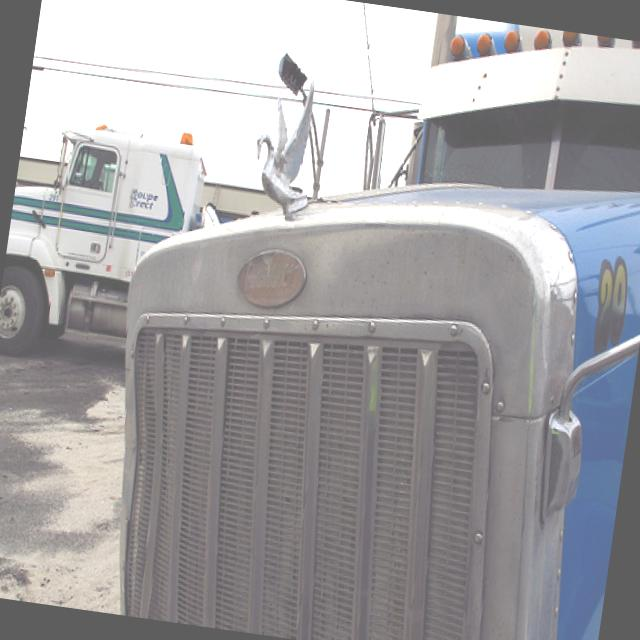Vehicle: (82, 0, 640, 640), (0, 108, 284, 397)
